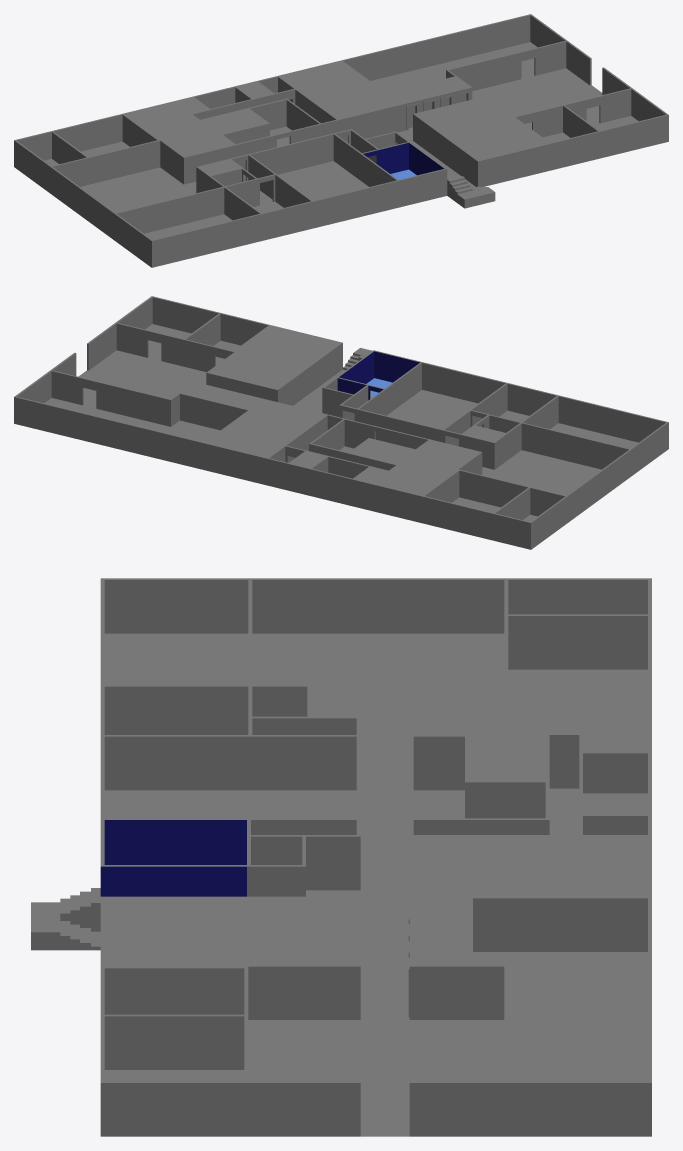
File: internationaloffice.gltf
3 views of the same model, one above another, from view 1: azimuth 30°, elevation 25°; view 2: azimuth 150°, elevation 25°; view 3: azimuth 270°, elevation 25° (orthographic). The views are drawn at different scales.
Parts seen in each view (by area): view 1: root; view 2: root; view 3: root.
Boxes of the visible parts, x1=… form: root: x1=14, y1=14, x2=668, y2=267; root: x1=14, y1=296, x2=668, y2=549; root: x1=31, y1=578, x2=651, y2=1136.
Bounding box in the file's own units: 60.63 × 3 × 31.54.
